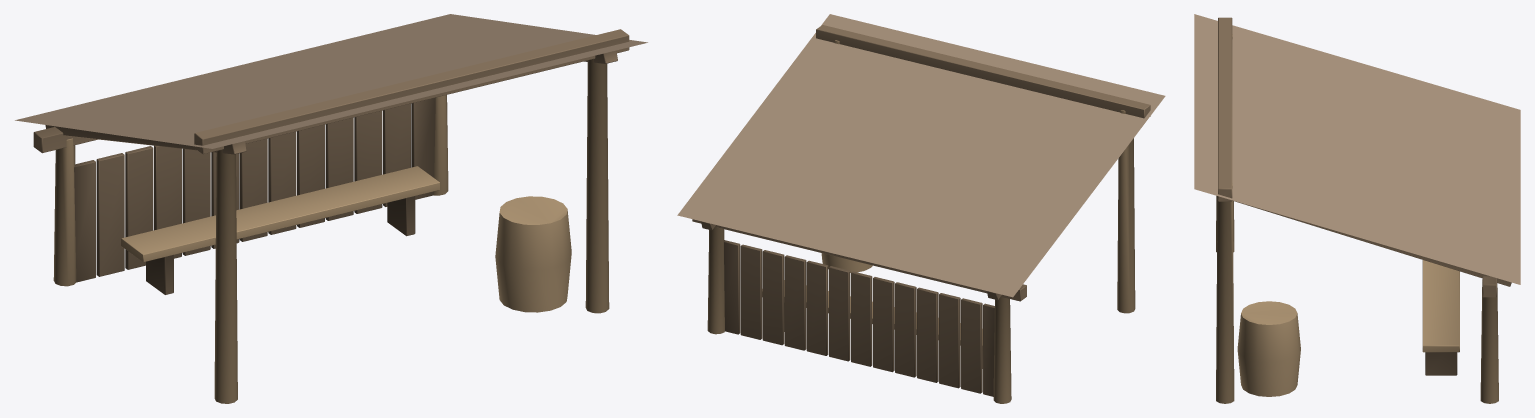
Rendered from dh_leanto.glb.
3 renders of one model, left to right at view 1: azimuth 30°, elevation 25°; view 2: azimuth 150°, elevation 25°; view 3: azimuth 270°, elevation 25°, orthographic. The views are drawn at different scales.
Visible parts, largest first — view 1: dh_leanto; view 2: dh_leanto; view 3: dh_leanto.
Boxes of the visible parts, <box> form: dh_leanto: <box>15,14,647,403</box>; dh_leanto: <box>677,14,1165,403</box>; dh_leanto: <box>1194,14,1520,403</box>.
Bounding box in the file's own units: 4.7 × 2.8 × 3.7.
